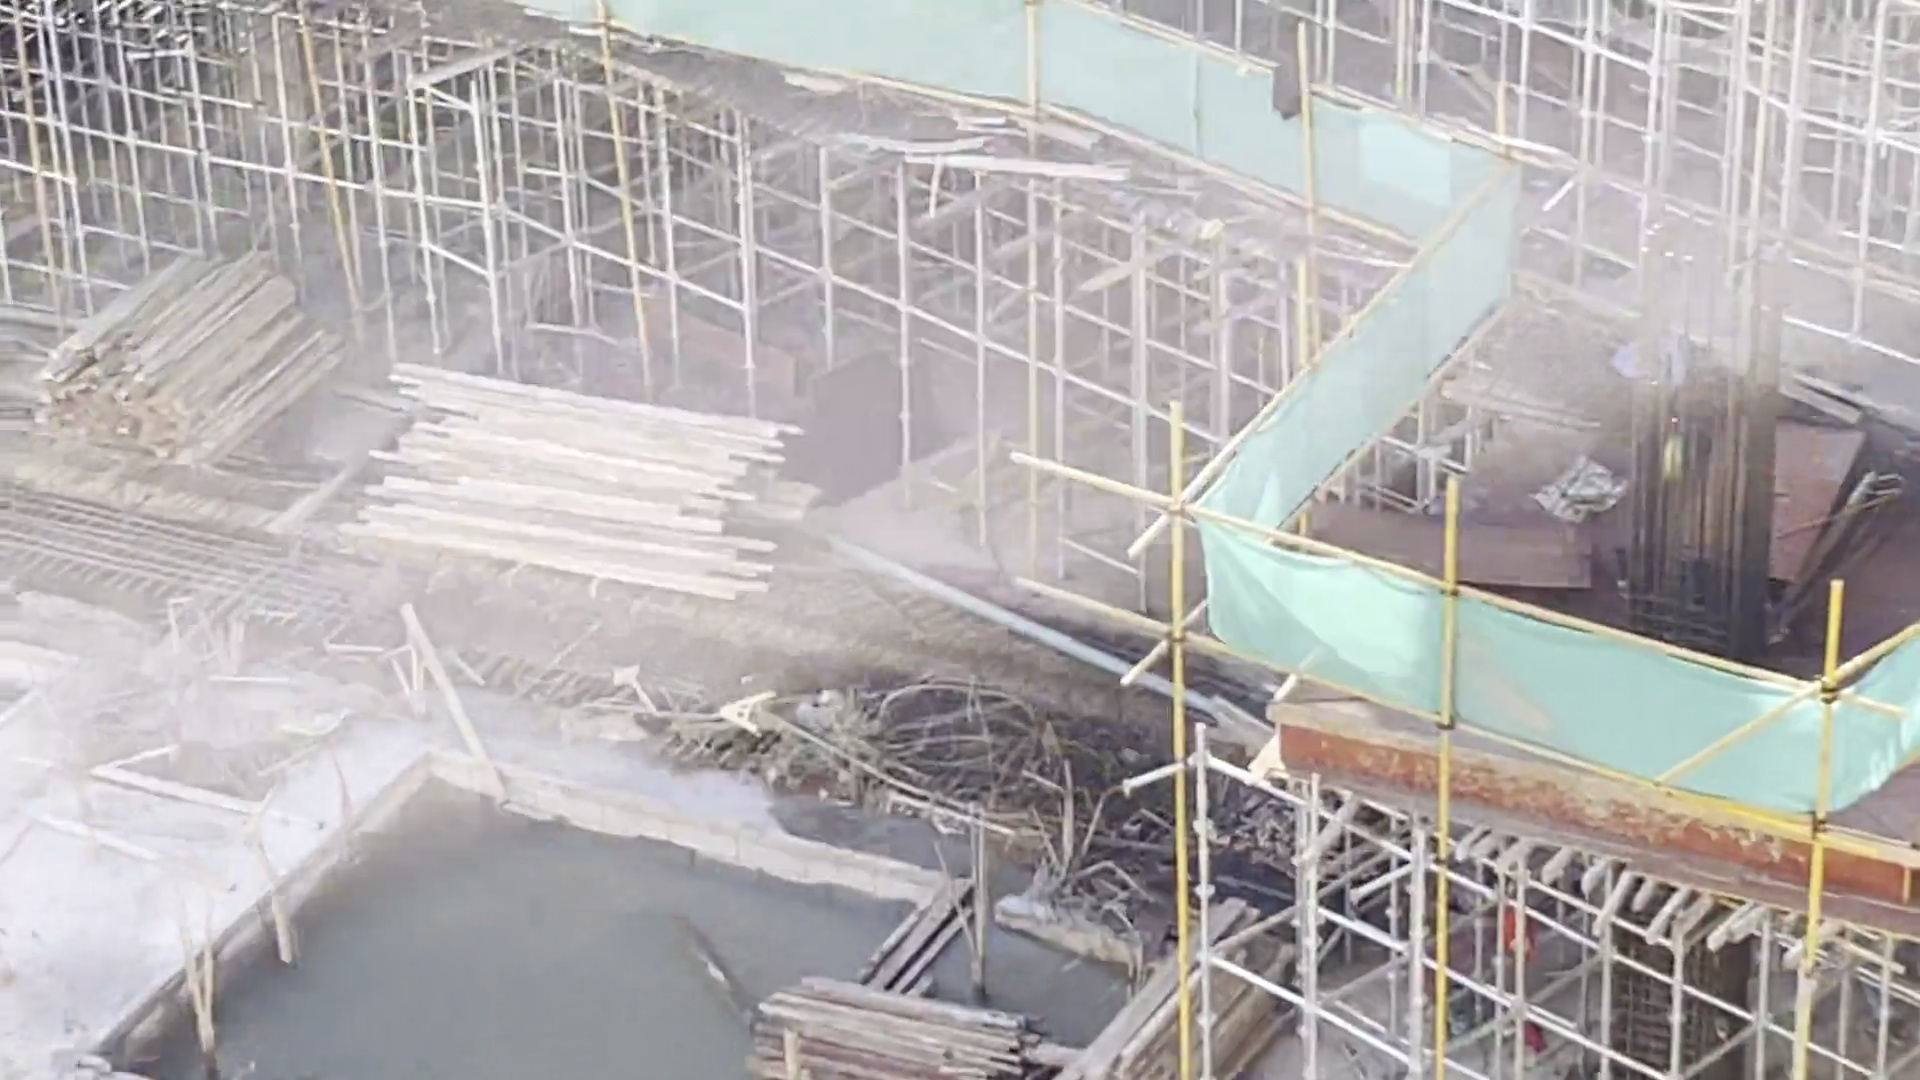wood: (338, 363, 815, 622), (41, 258, 334, 462)
